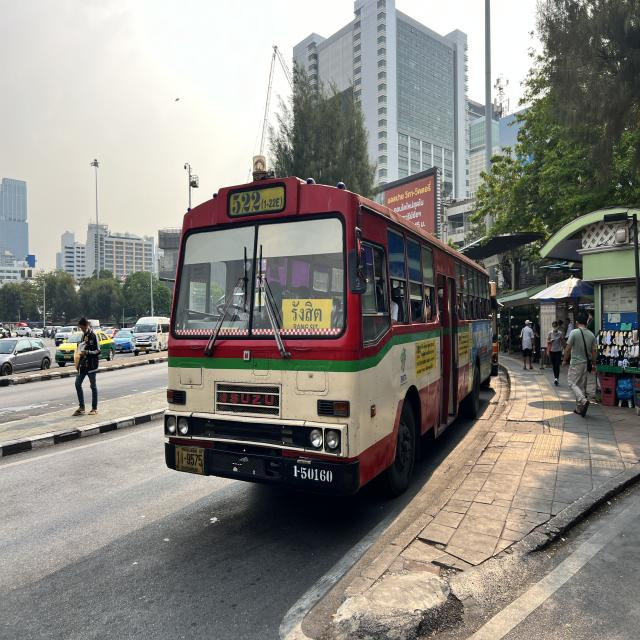BMTA-bus: (162, 177, 499, 502)
Bus-Line-Number: (228, 188, 286, 214)
Destination-Sign-Normal-Expressway: (283, 300, 332, 338)
